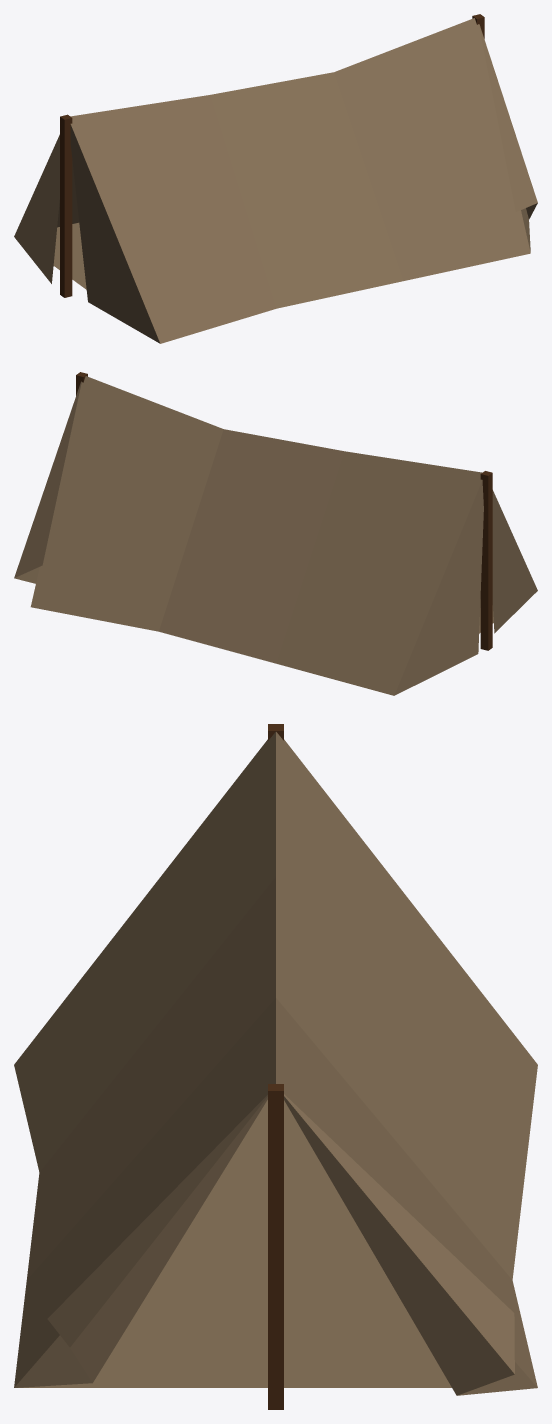
File: Tent2.fbx
3 renders of one model, top to bottom at view 1: azimuth 30°, elevation 25°; view 2: azimuth 150°, elevation 25°; view 3: azimuth 270°, elevation 25°, orthographic. The views are drawn at different scales.
Parts seen in each view (by area): view 1: Tent, TentPole; view 2: Tent, TentPole; view 3: Tent, TentPole.
Boxes of the visible parts, <box> form: Tent: <box>14,18,537,343</box>; TentPole: <box>60,14,484,297</box>; Tent: <box>14,376,537,695</box>; TentPole: <box>76,372,492,650</box>; Tent: <box>14,732,537,1395</box>; TentPole: <box>268,724,283,1409</box>.
Bounding box in the file's own units: 227 × 92 × 137.
1 material, 1 textured.
